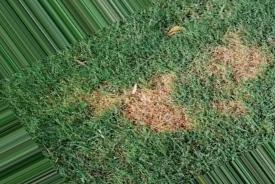patch: (215, 35, 263, 75), (115, 84, 161, 116), (211, 89, 250, 117), (74, 84, 112, 112), (170, 102, 195, 130), (168, 63, 198, 85)
